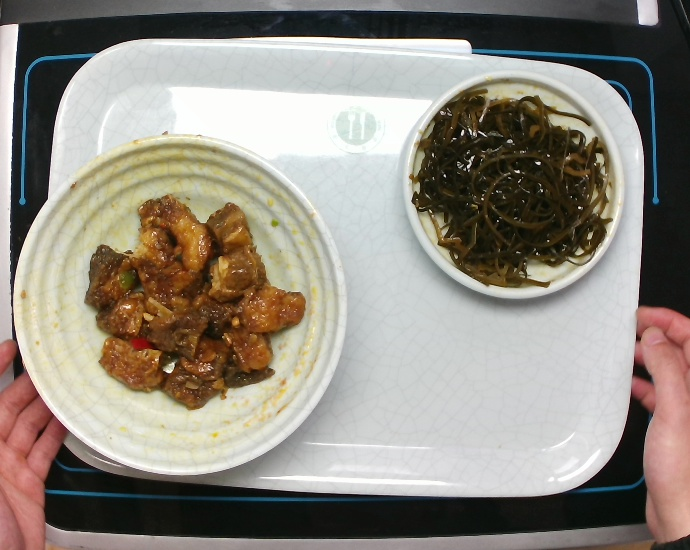JYsf-Da_Tang_Wan: (9, 133, 348, 480)
JYsf-Xiao_Yuan_Pan: (401, 69, 625, 301)
